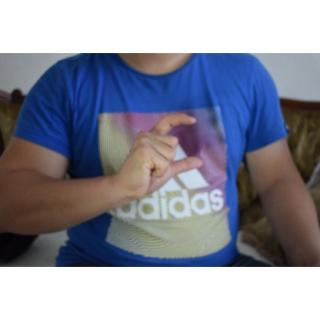DELL: (117, 109, 204, 210)
